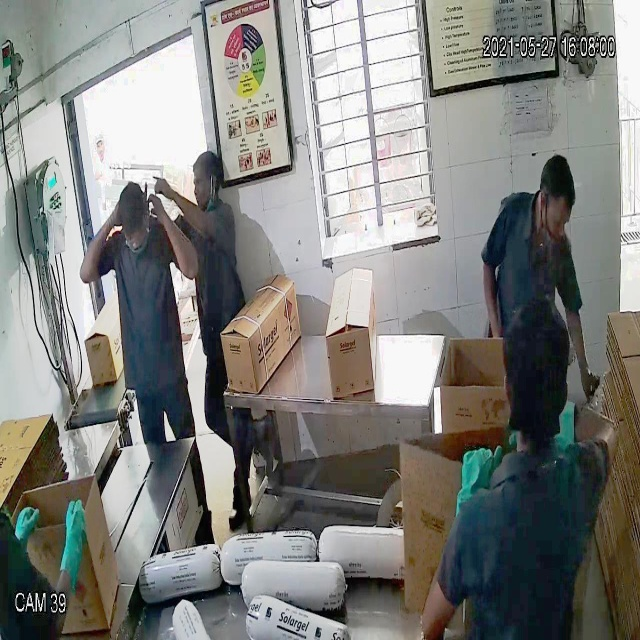Sin_gafas: (540, 202, 573, 238)
